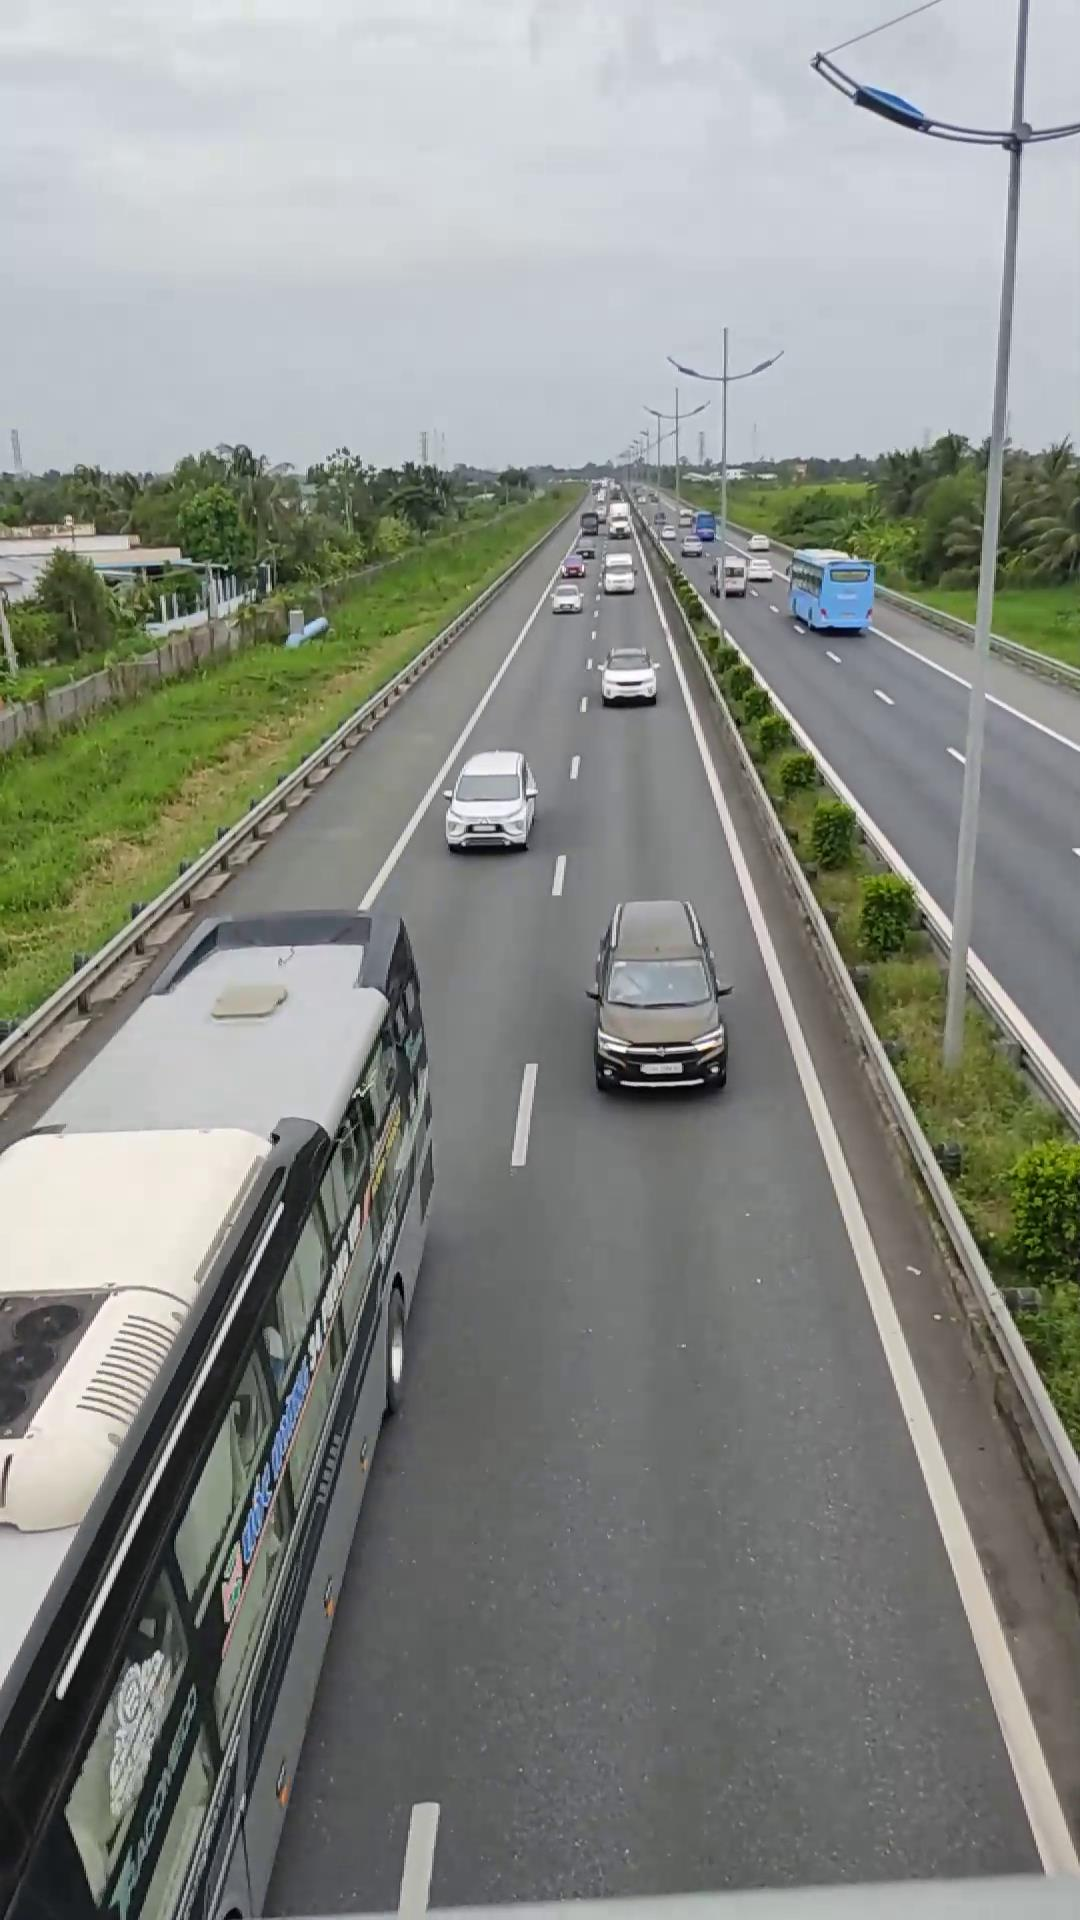bus: (0, 909, 436, 1913)
car: (585, 895, 731, 1093), (442, 749, 538, 852)
